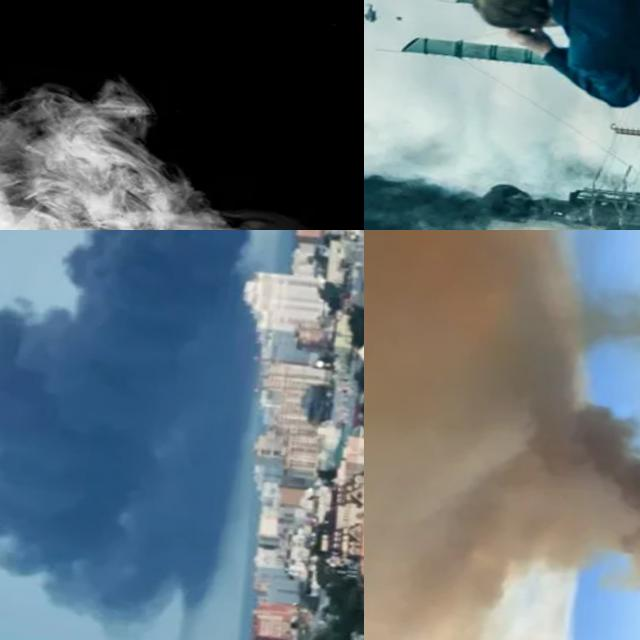smoke: (0, 230, 317, 640), (0, 54, 315, 230), (486, 395, 640, 639), (364, 152, 492, 230)
